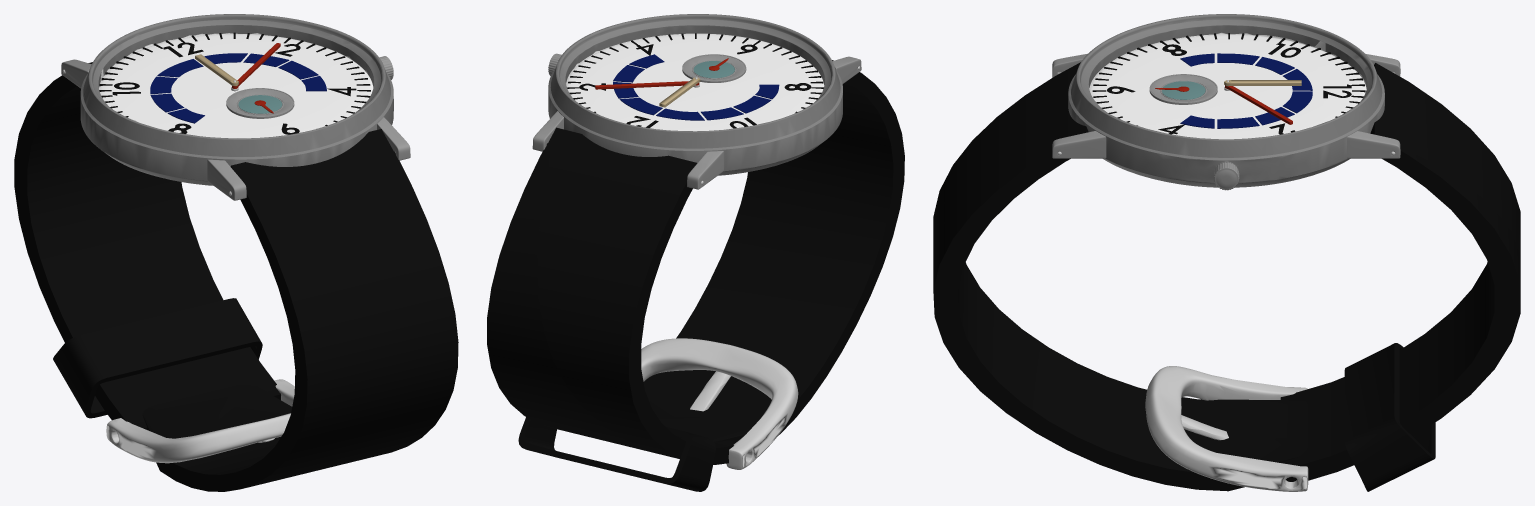
Rendered from watch1.fbx.
3 renders of one model, left to right at view 1: azimuth 30°, elevation 25°; view 2: azimuth 150°, elevation 25°; view 3: azimuth 270°, elevation 25°, orthographic. The views are drawn at different scales.
Parts seen in each view (by area): view 1: sport watch072, sport watch073, watch008, Object089, sport watch074, metal hold005, Arc008, handles008, faceRing014, hours008, numbers009; view 2: sport watch073, sport watch072, watch008, Object089, metal hold005, sport watch074, Arc008, handles008, faceRing014, hours008, metal pin005, numbers009 (+1 smaller); view 3: sport watch072, sport watch073, watch008, Object089, metal hold005, sport watch074, handles008, Arc008, faceRing014, hours008, numbers009.
Part boxes in pixels (x1,y1,x2,y2): sport watch072: [142, 129, 458, 491]; sport watch073: [14, 62, 280, 429]; watch008: [80, 14, 393, 185]; Object089: [99, 33, 373, 138]; sport watch074: [53, 298, 262, 418]; metal hold005: [106, 379, 294, 463]; Arc008: [150, 53, 326, 123]; handles008: [61, 59, 410, 200]; faceRing014: [226, 88, 294, 118]; hours008: [99, 32, 370, 125]; numbers009: [112, 42, 356, 134]; sport watch073: [487, 127, 736, 464]; sport watch072: [643, 60, 904, 441]; watch008: [548, 14, 842, 175]; Object089: [566, 33, 824, 131]; metal hold005: [641, 338, 798, 469]; sport watch074: [518, 417, 715, 491]; Arc008: [613, 54, 779, 120]; handles008: [532, 56, 861, 189]; faceRing014: [682, 54, 746, 82]; hours008: [567, 33, 823, 112]; metal pin005: [690, 371, 730, 411]; numbers009: [579, 44, 811, 128]; sport watch072: [933, 62, 1308, 491]; sport watch073: [1280, 63, 1520, 481]; watch008: [1068, 14, 1384, 187]; Object089: [1089, 32, 1366, 139]; metal hold005: [1145, 366, 1308, 491]; sport watch074: [1344, 343, 1435, 491]; handles008: [1052, 53, 1400, 158]; Arc008: [1180, 53, 1312, 128]; faceRing014: [1149, 74, 1217, 104]; hours008: [1092, 33, 1365, 125]; numbers009: [1107, 43, 1351, 134].
Size of the model in its own units: 142 by 177 by 250.
